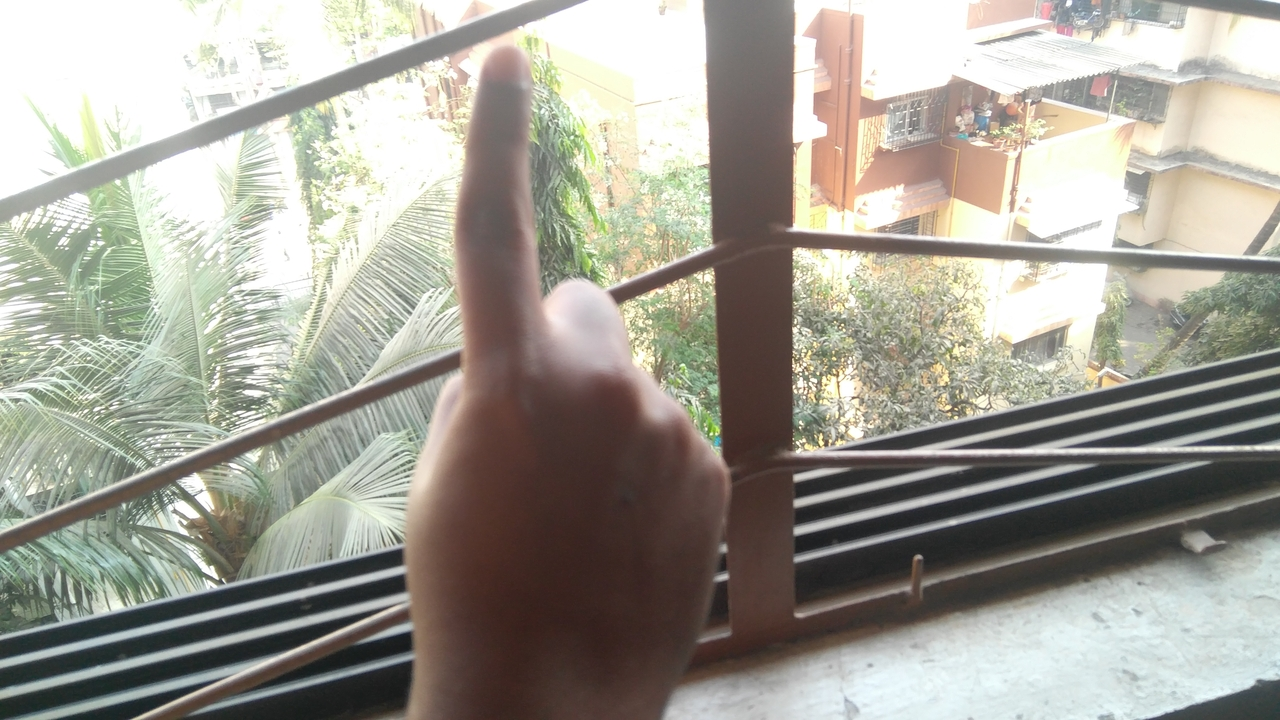fingertip: (472, 34, 532, 98)
